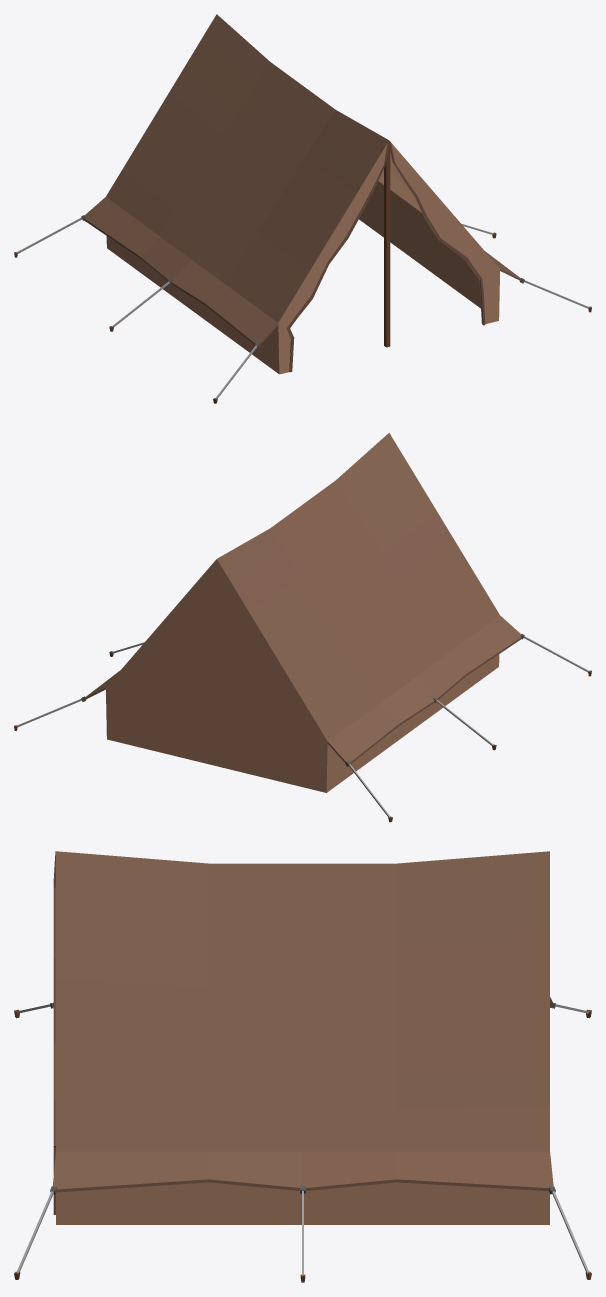
File: Tent_05.fbx
3 renders of one model, top to bottom at view 1: azimuth 30°, elevation 25°; view 2: azimuth 150°, elevation 25°; view 3: azimuth 270°, elevation 25°, orthographic. The views are drawn at different scales.
Parts seen in each view (by area): view 1: Tent_05; view 2: Tent_05; view 3: Tent_05.
Boxes of the visible parts, x1=… form: Tent_05: x1=14, y1=14, x2=591, y2=403; Tent_05: x1=14, y1=433, x2=591, y2=822; Tent_05: x1=14, y1=851, x2=591, y2=1282.
Bounding box in the file's own units: 436 × 224 × 395.
